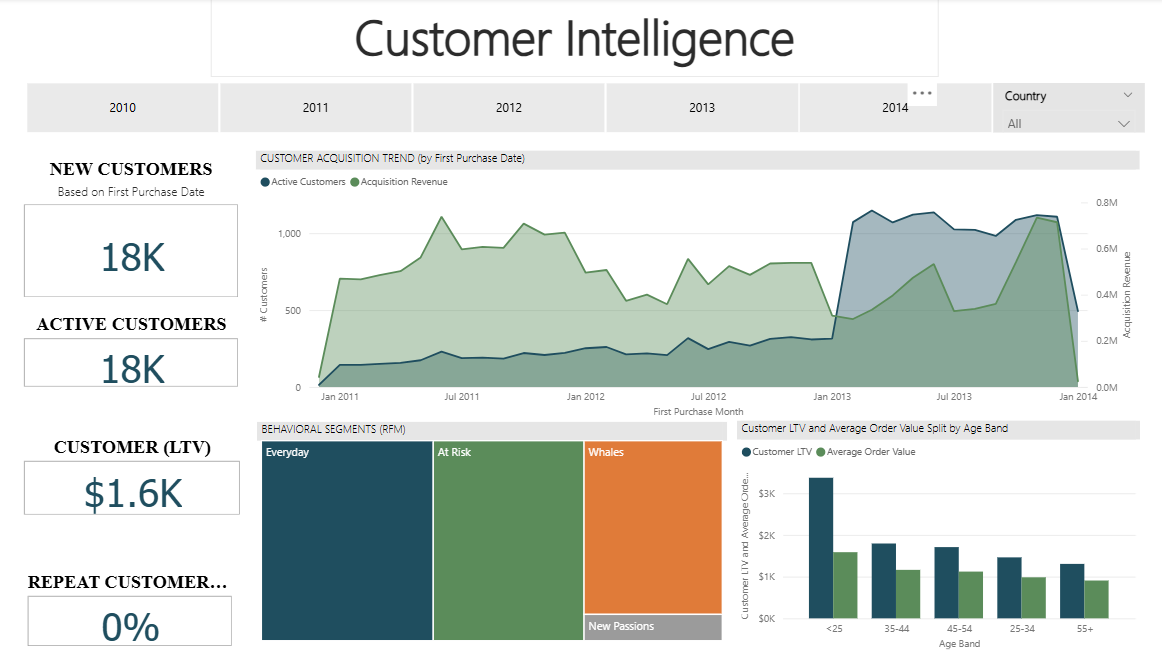

Layout of this report page (visuals, bound fields, positions):
{"tool":"powerbi","page":{"name":"Customer Intelligence","canvas":[1280,720],"ordinal":1},"visuals":[{"type":"group","id":"g1","title":"Group 1","box":[7,86,1253,68],"z":0},{"type":"cardVisual","title":"ACTIVE CUSTOMERS","fields":{"Data":["_Measures.Active Customers"]},"box":[25.7,346.9,245.9,85.4],"z":0,"group":"g2"},{"type":"textbox","box":[234,0,799,86],"z":1000},{"type":"areaChart","title":"CUSTOMER ACQUISITION TREND (by First Purchase Date)","fields":{"Category":["dim_customers.First Purchase Date.Variation.Date Hierarchy.Year","dim_customers.First Purchase Date.Variation.Date Hierarchy.Month"],"Y":["_Measures.Active Customers"],"Y2":["_Measures.Acquisition Revenue"]},"box":[284.3,167,970.4,297.9],"z":2000},{"type":"cardVisual","title":"NEW CUSTOMERS","fields":{"Data":["_Measures.New Customers1"]},"box":[25.7,176.5,245.2,156.4],"z":2000,"group":"g2"},{"type":"clusteredColumnChart","title":"Customer LTV and Average Order Value Split by Age Band","fields":{"Category":["dim_customers.Age Band"],"Y":["_Measures.Customer LTV","_Measures.Average Order Value"]},"box":[812.1,464.5,442.6,255.5],"z":3000},{"type":"cardVisual","title":"CUSTOMER (LTV)","fields":{"Data":["_Measures.Customer LTV"]},"box":[25.1,481.5,247.9,91.5],"z":3000,"group":"g2"},{"type":"slicer","fields":{"Values":["Date.Year"]},"box":[7,86,1108.5,68],"z":4000,"group":"g1"},{"type":"group","id":"g2","title":"Group 2","box":[25.1,176.5,247.9,539.6],"z":4000},{"type":"slicer","fields":{"Values":["dim_customers.country"]},"box":[1094,93,166,54],"z":5000,"group":"g1"},{"type":"treemap","title":"BEHAVIORAL SEGMENTS (RFM)","fields":{"Group":["Customer_RFM.RFM_Segment"],"Values":["Count(Customer_RFM.customer_key)"]},"box":[284.8,464.8,516,245.6],"z":5000},{"type":"cardVisual","title":"REPEAT CUSTOMER RATE","fields":{"Data":["_Measures.Repeat Customer Rate"]},"box":[29.4,628.7,234.3,87.4],"z":5000,"group":"g2"}]}

Visuals, with their boxes in screenshot pixels (x1, y1, x2, y2), scaled from the page's 1280x720 canvas onto the 1162x652 screenshot:
"Group 1" group: bbox=[6, 78, 1144, 139]
"ACTIVE CUSTOMERS" cardVisual: bbox=[23, 314, 247, 391]
textbox: bbox=[212, 0, 938, 78]
"CUSTOMER ACQUISITION TREND (by First Purchase Date)" areaChart: bbox=[258, 151, 1139, 421]
"NEW CUSTOMERS" cardVisual: bbox=[23, 160, 246, 301]
"Customer LTV and Average Order Value Split by Age Band" clusteredColumnChart: bbox=[737, 421, 1139, 651]
"CUSTOMER (LTV)" cardVisual: bbox=[23, 436, 248, 519]
slicer - Date.Year: bbox=[6, 78, 1013, 139]
"Group 2" group: bbox=[23, 160, 248, 648]
slicer - dim_customers.country: bbox=[993, 84, 1144, 133]
"BEHAVIORAL SEGMENTS (RFM)" treemap: bbox=[259, 421, 727, 643]
"REPEAT CUSTOMER RATE" cardVisual: bbox=[27, 569, 239, 648]
